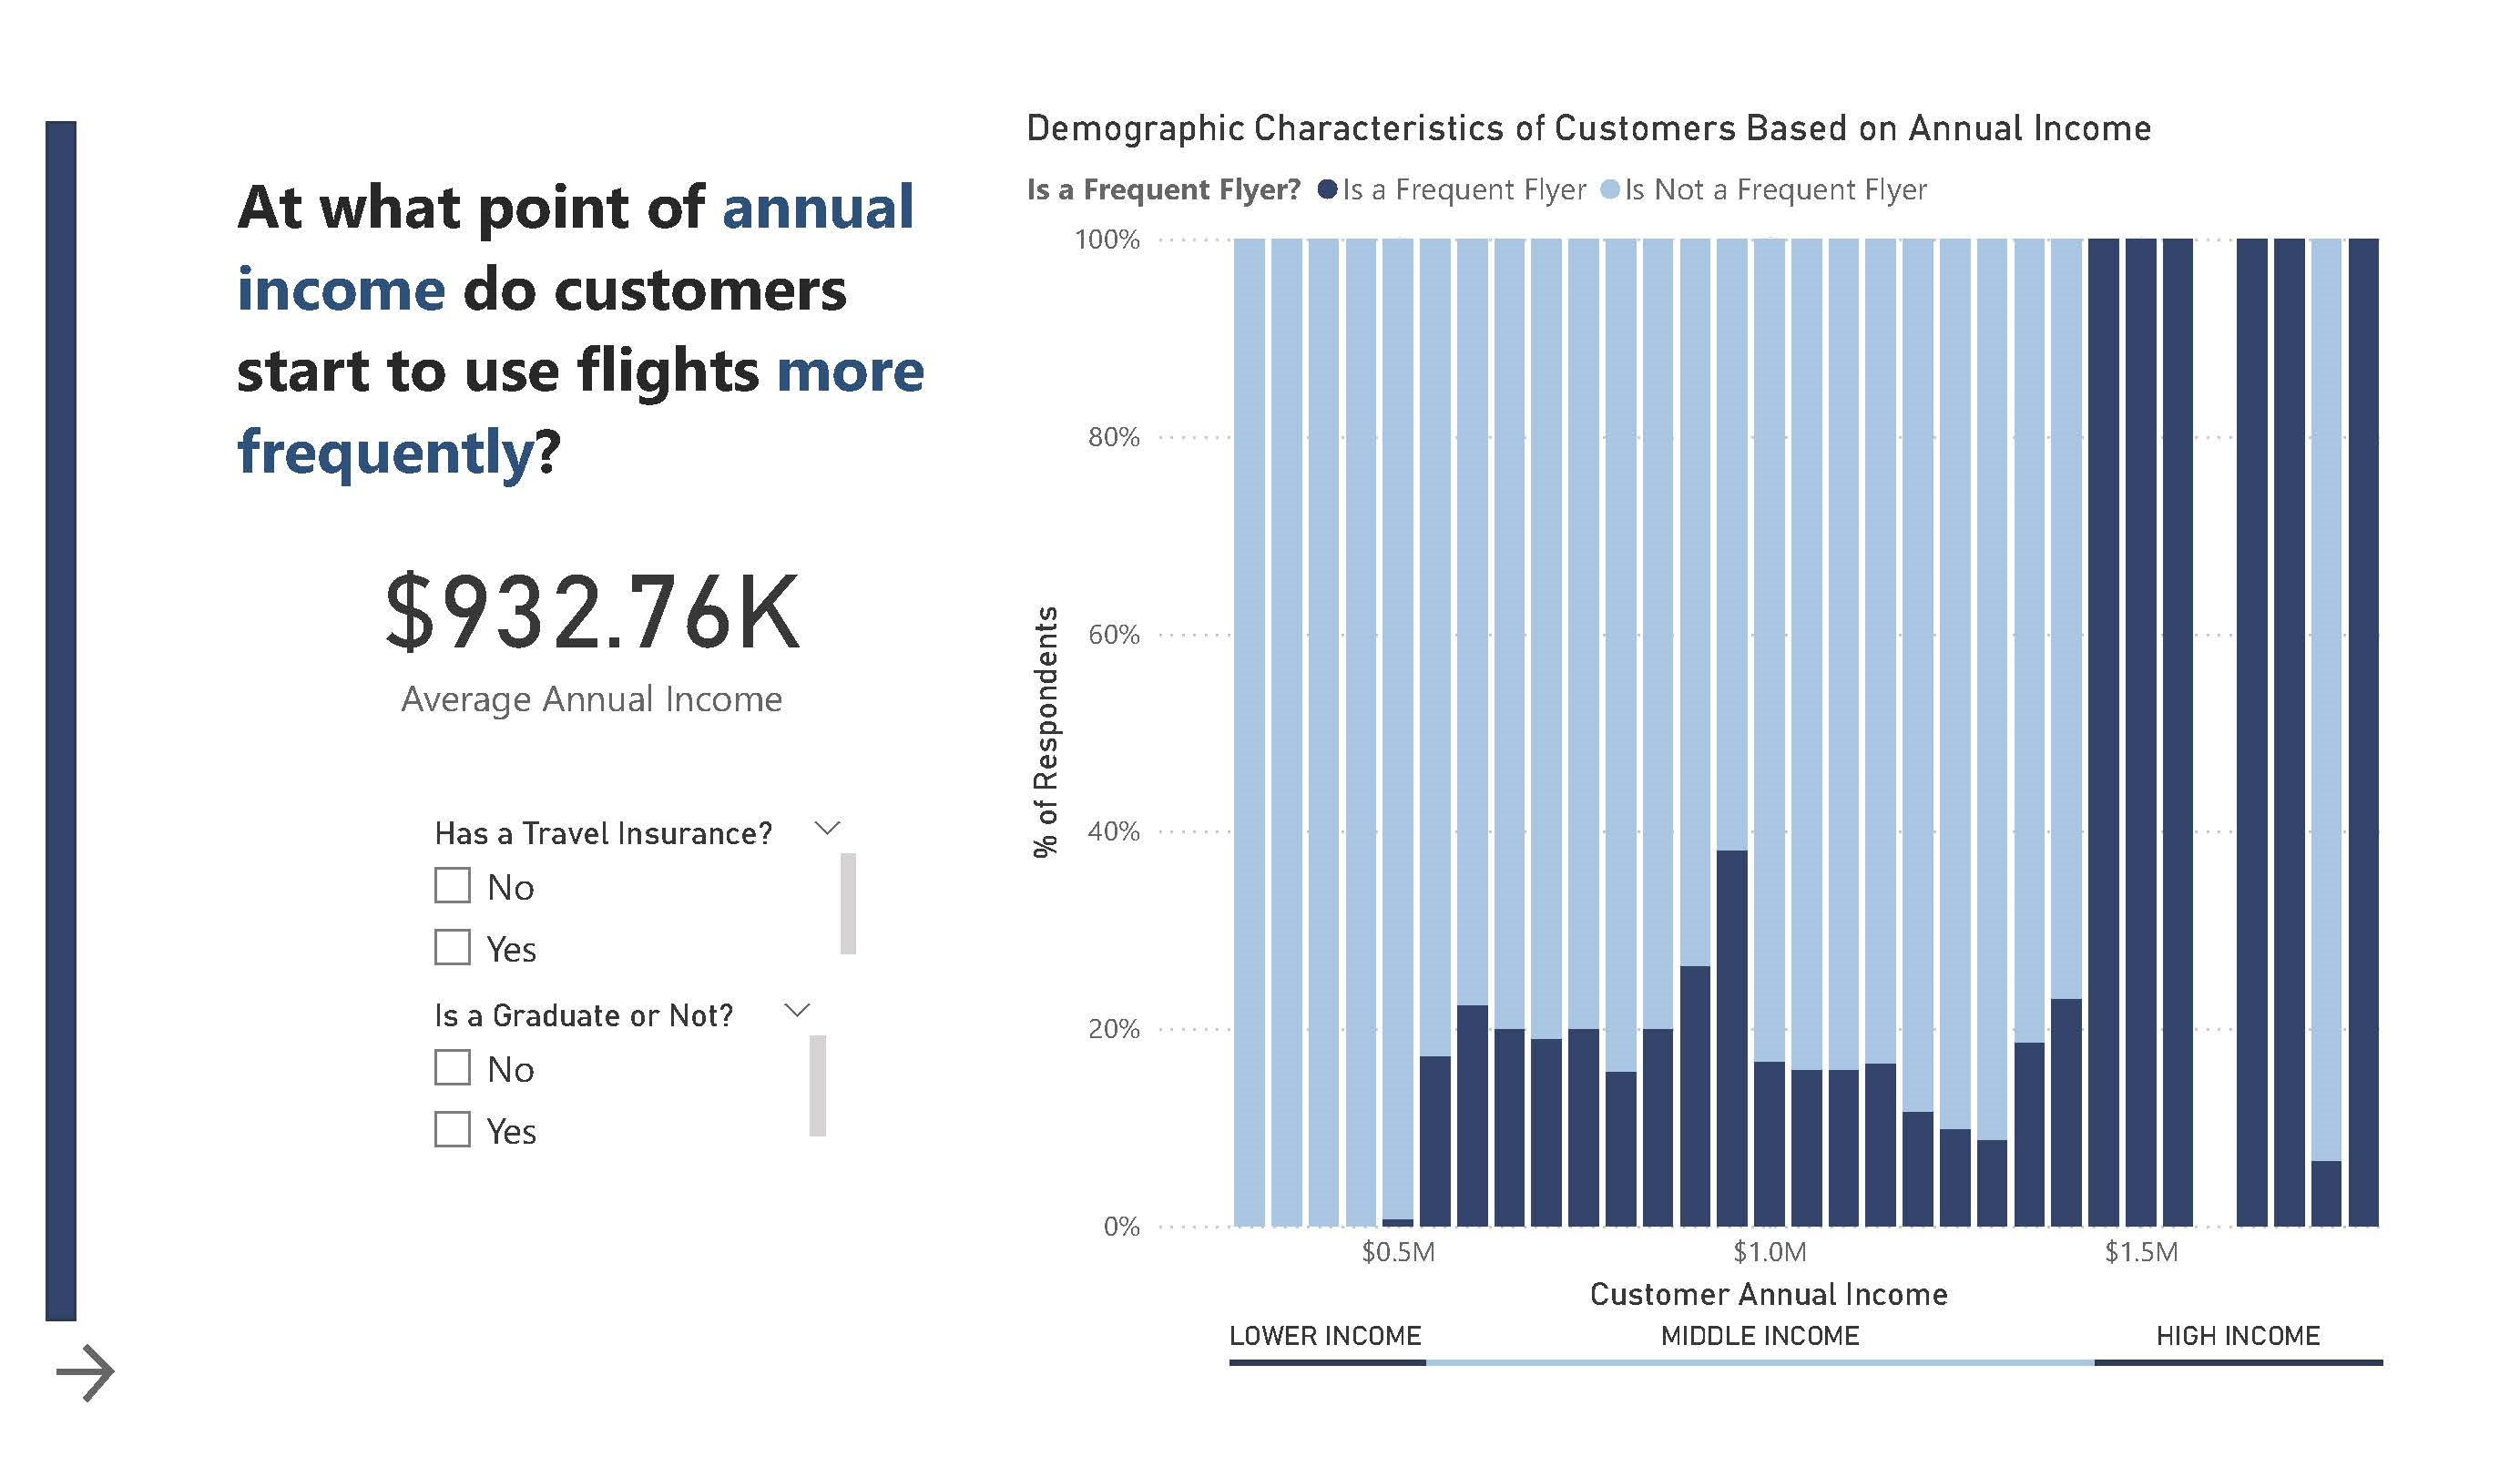

The page's visual inventory and layout, read from the dashboard file:
{"tool":"powerbi","page":{"name":"Annual Income","canvas":[1280,720],"ordinal":5},"visuals":[{"type":"hundredPercentStackedColumnChart","title":"Demographic Characteristics of Customers Based on Annual Income","fields":{"Category":["travel_insurance.AnnualIncome"],"Y":["travel_insurance.COUNT"],"Series":["travel_insurance.FrequencySorted"]},"box":[512,32,736,640],"z":0},{"type":"slicer","fields":{"Values":["travel_insurance.TravelInsurance"]},"box":[192,400.1,240,96],"z":1000},{"type":"slicer","fields":{"Values":["travel_insurance.GraduateOrNot"]},"box":[192,496.1,224,96],"z":2000},{"type":"card","fields":{"Values":["Avg(travel_insurance.AnnualIncome)"]},"box":[96,240.1,384,128],"z":3000},{"type":"shape","box":[0,40,16,632],"z":4000},{"type":"textbox","box":[96,56.1,384,192],"z":5000},{"type":"actionButton","box":[0,680,48,40],"z":5001},{"type":"shape","title":"LOWER INCOME","box":[624,672,104,24],"z":5002},{"type":"shape","title":"MIDDLE INCOME","box":[728,672,352,24],"z":5003},{"type":"shape","title":"HIGH INCOME","box":[1080,672,152,24],"z":5004}]}

Visuals, with their boxes on the page's 1280x720 design canvas (x1, y1, x2, y2). These are canvas units, not pixel positions in the 2520x1457 screenshot, which may show the page scaled, cropped or inside an application window:
"Demographic Characteristics of Customers Based on Annual Income" hundredPercentStackedColumnChart: box=[512, 32, 1248, 672]
slicer - travel_insurance.TravelInsurance: box=[192, 400, 432, 496]
slicer - travel_insurance.GraduateOrNot: box=[192, 496, 416, 592]
card - Avg(travel_insurance.AnnualIncome): box=[96, 240, 480, 368]
shape: box=[0, 40, 16, 672]
textbox: box=[96, 56, 480, 248]
actionButton: box=[0, 680, 48, 720]
"LOWER INCOME" shape: box=[624, 672, 728, 696]
"MIDDLE INCOME" shape: box=[728, 672, 1080, 696]
"HIGH INCOME" shape: box=[1080, 672, 1232, 696]
